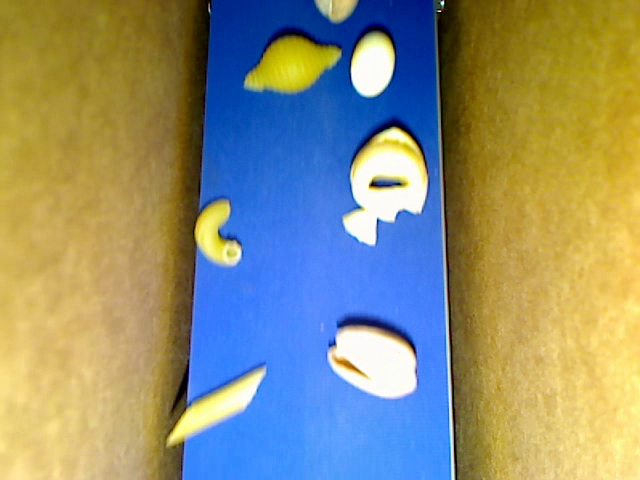elbow: (194, 198, 242, 267)
penne: (166, 363, 267, 445)
shell: (244, 35, 341, 92)
tortellini: (348, 126, 428, 225)
